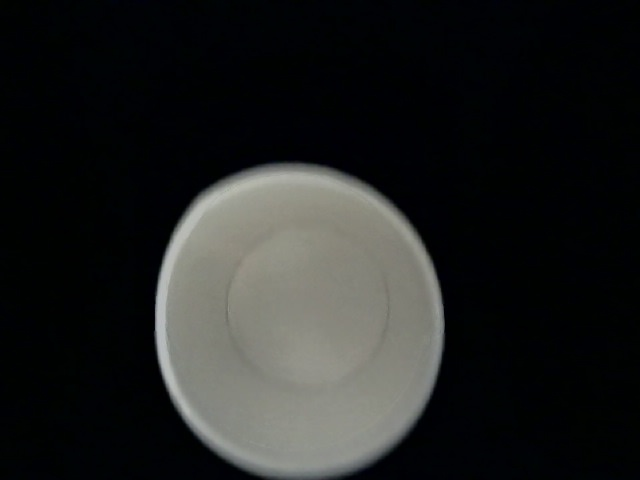KHSLJ: (55, 174, 559, 480)
